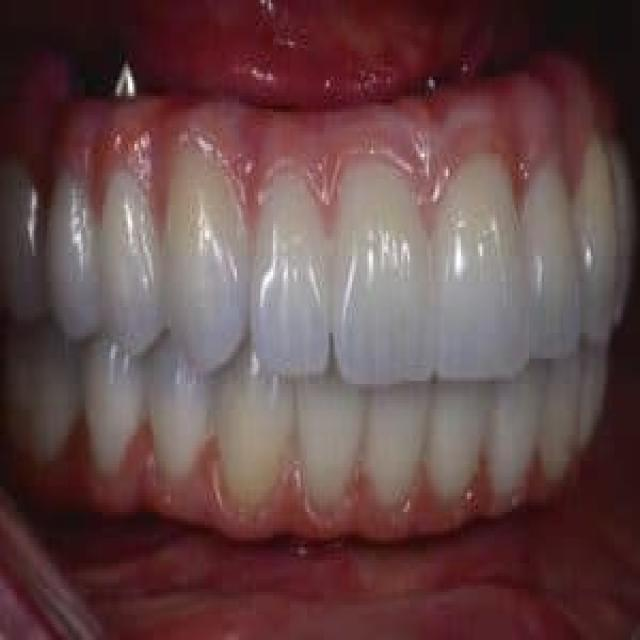tooth: (333, 160, 433, 381), (435, 154, 525, 380), (162, 150, 250, 374), (252, 166, 335, 378), (100, 144, 166, 352), (211, 365, 299, 512), (520, 170, 582, 352), (49, 150, 107, 336), (2, 327, 83, 458), (294, 374, 363, 516), (361, 381, 426, 522), (79, 336, 145, 470), (576, 147, 617, 346), (429, 374, 488, 509), (2, 164, 51, 326), (482, 365, 540, 499), (149, 355, 209, 480), (536, 362, 578, 483), (576, 342, 614, 445), (616, 154, 632, 326)
